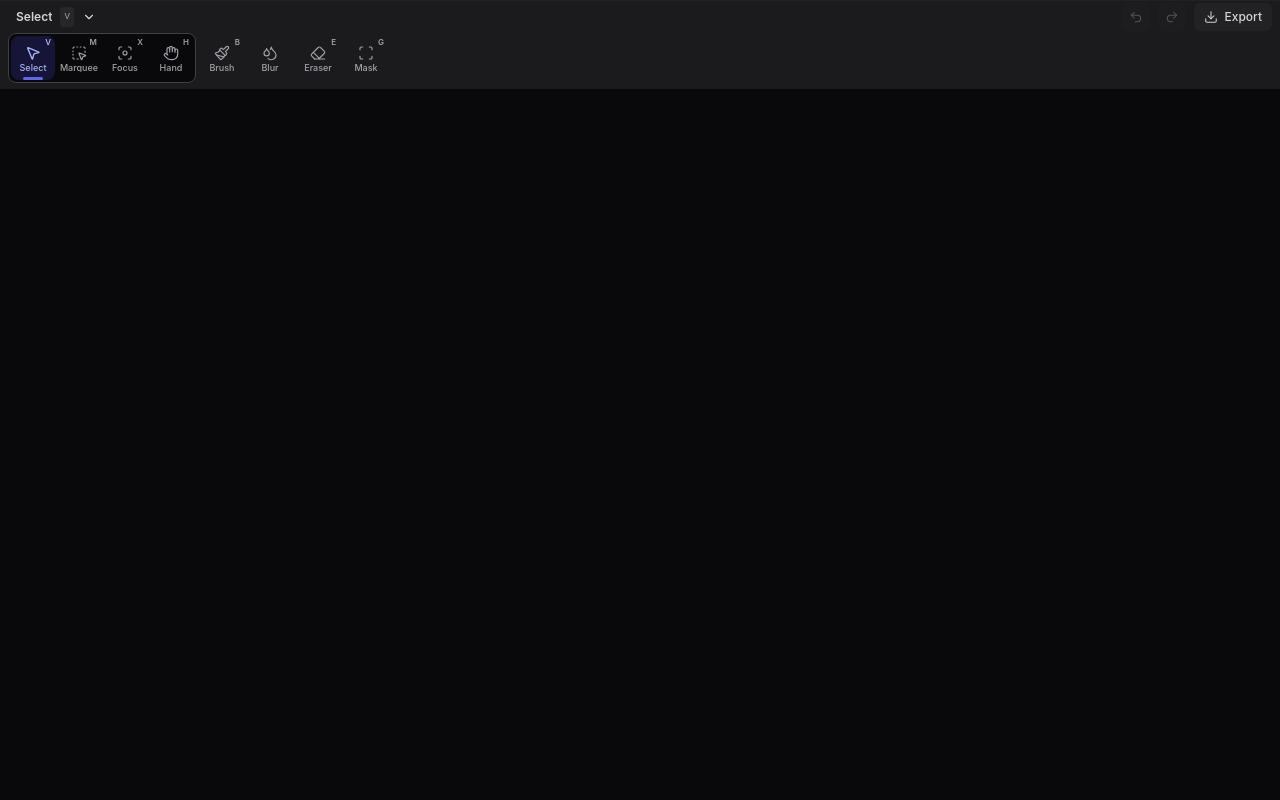
Scenario: ExportDialog — Phase 5e modal › toolbar Export button opens the visible modal (not a sidebar tab)
What coordinates should you click on to do the following:
click the button "Export"
I would click on:
 (1233, 17)
Its box is [1194,3,1272,31].
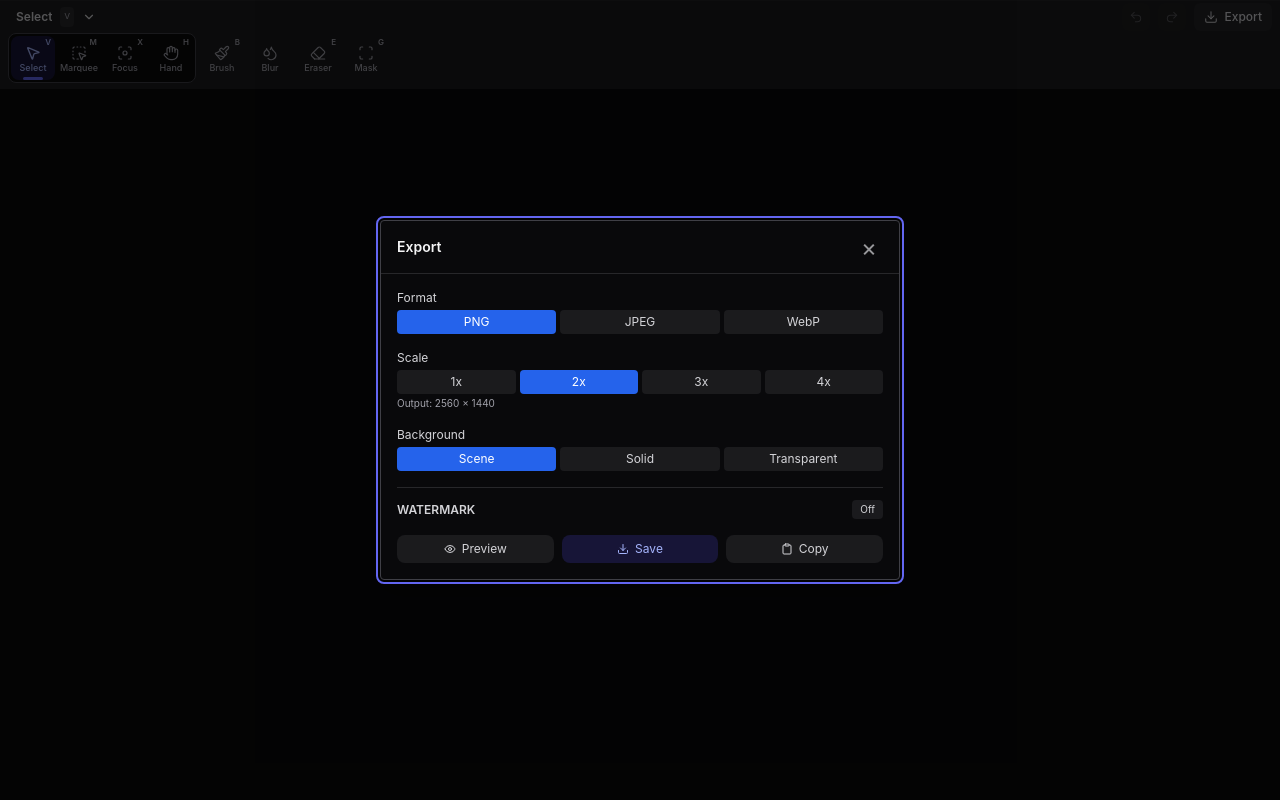
Now the dialog "Export" is shown, box [380,220,900,580]
